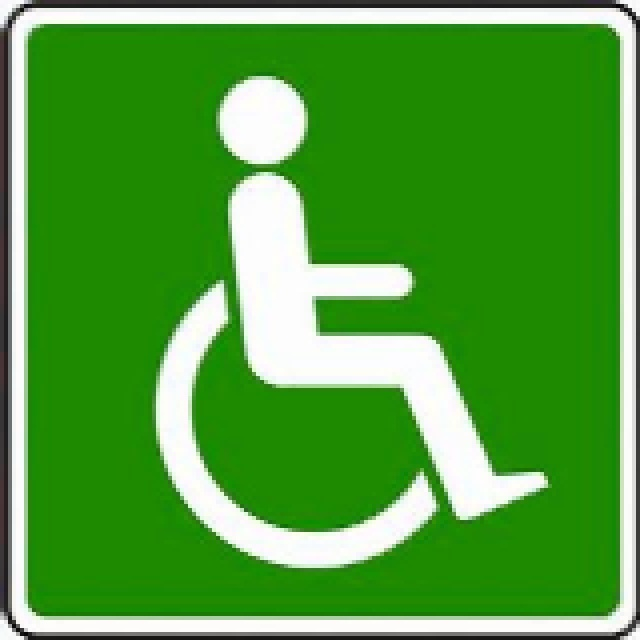ISA: (152, 75, 548, 579)
